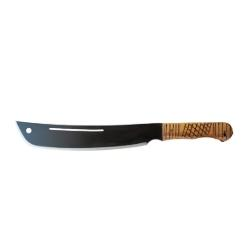MACHETTE: (10, 107, 245, 157)
